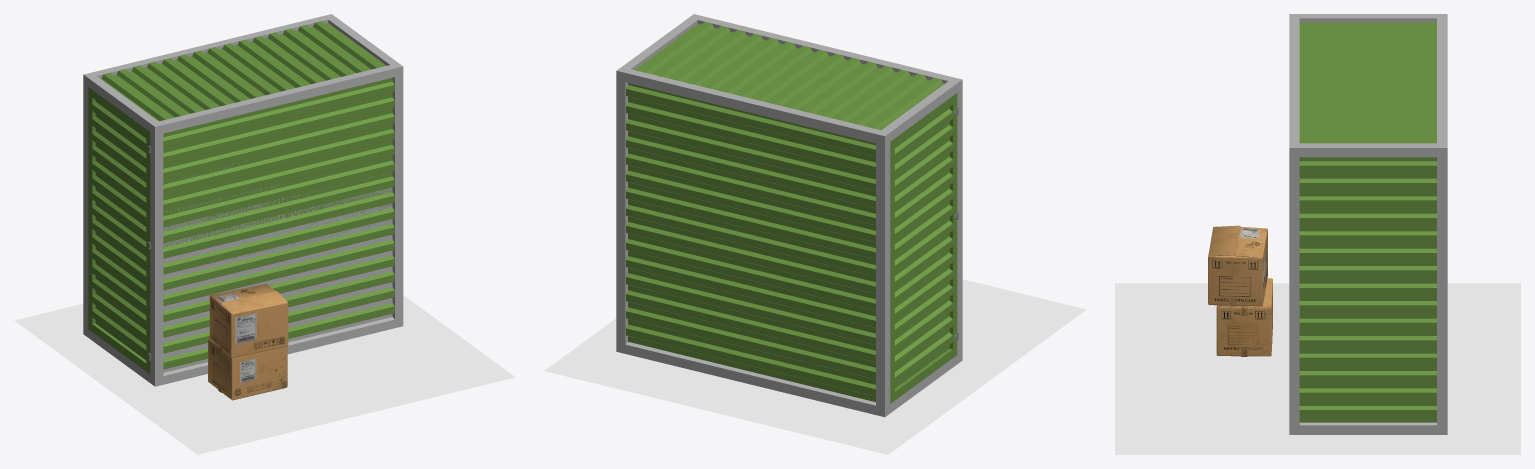
3 views of the same model, side by side, from view 1: azimuth 30°, elevation 25°; view 2: azimuth 150°, elevation 25°; view 3: azimuth 270°, elevation 25° (orthographic). The views are drawn at different scales.
Parts seen in each view (by area): view 1: Cube.012, Plane, Cube.008, Cube.009, Cube.015, Object_9, Cube.014, Object_10; view 2: Cube.011, Plane, Cube.008, Cube.009, Cube.015, Cube.014; view 3: Plane, Cube.010, Cube.009, Cube.008, Object_9, Object_10.
Boxes of the visible parts, x1,y1,x2,y2 form: Cube.012: (163, 78, 394, 369); Plane: (14, 295, 515, 454); Cube.008: (83, 14, 403, 386); Cube.009: (100, 21, 386, 121); Cube.015: (92, 100, 146, 359); Object_9: (209, 283, 288, 357); Cube.014: (88, 87, 150, 373); Object_10: (208, 338, 287, 400); Cube.011: (626, 83, 875, 401); Plane: (544, 279, 1086, 454); Cube.008: (616, 14, 962, 417); Cube.009: (635, 22, 943, 129); Cube.015: (894, 107, 952, 388); Cube.014: (890, 93, 957, 403); Plane: (1115, 283, 1520, 454); Cube.010: (1299, 157, 1436, 422); Cube.009: (1299, 22, 1436, 143); Cube.008: (1289, 14, 1447, 434); Object_9: (1208, 225, 1267, 306); Object_10: (1216, 278, 1272, 356).
Bounding box in the file's own units: 3.08 × 2.42 × 3.08.
14 materials, 3 textured.
